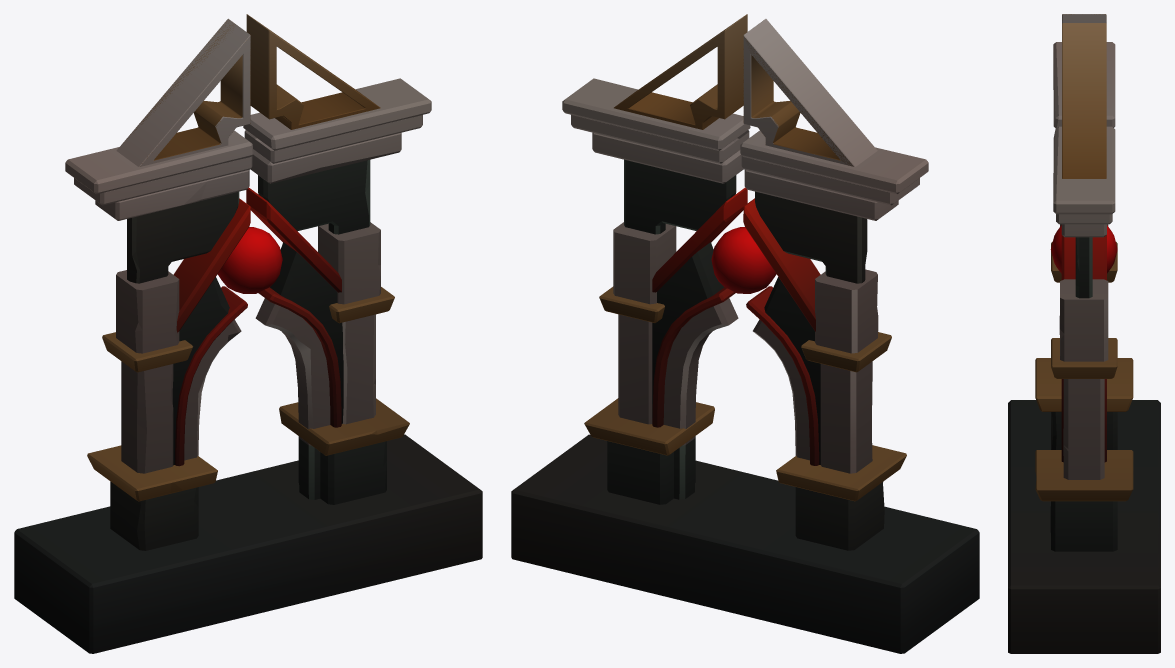
File: Prop_portal_01.fbx
3 views of the same model, side by side, from view 1: azimuth 30°, elevation 25°; view 2: azimuth 150°, elevation 25°; view 3: azimuth 270°, elevation 25° (orthographic). The views are drawn at different scales.
Visible parts, largest first — view 1: Portal; view 2: Portal; view 3: Portal.
Boxes of the visible parts, box(x1,y1,x2,y2) form: Portal: box(14, 14, 482, 653); Portal: box(511, 14, 979, 653); Portal: box(1008, 14, 1160, 653).
Size of the model in its own units: 1492 by 2007 by 513.
